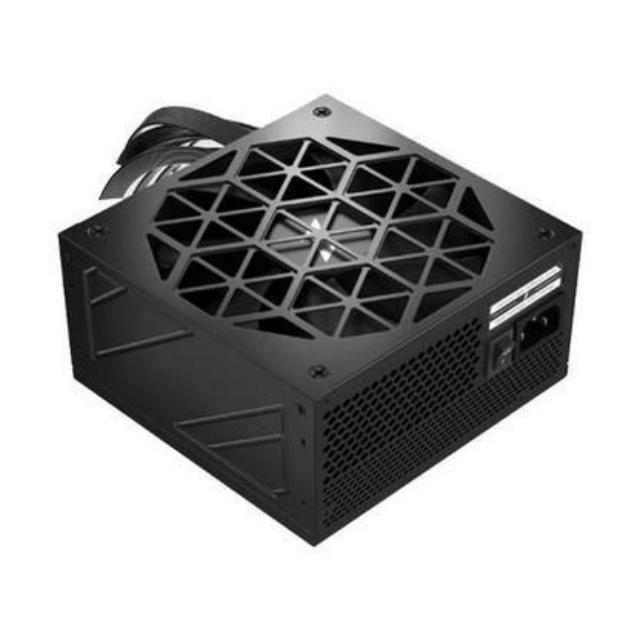PSU: (39, 78, 602, 550)
